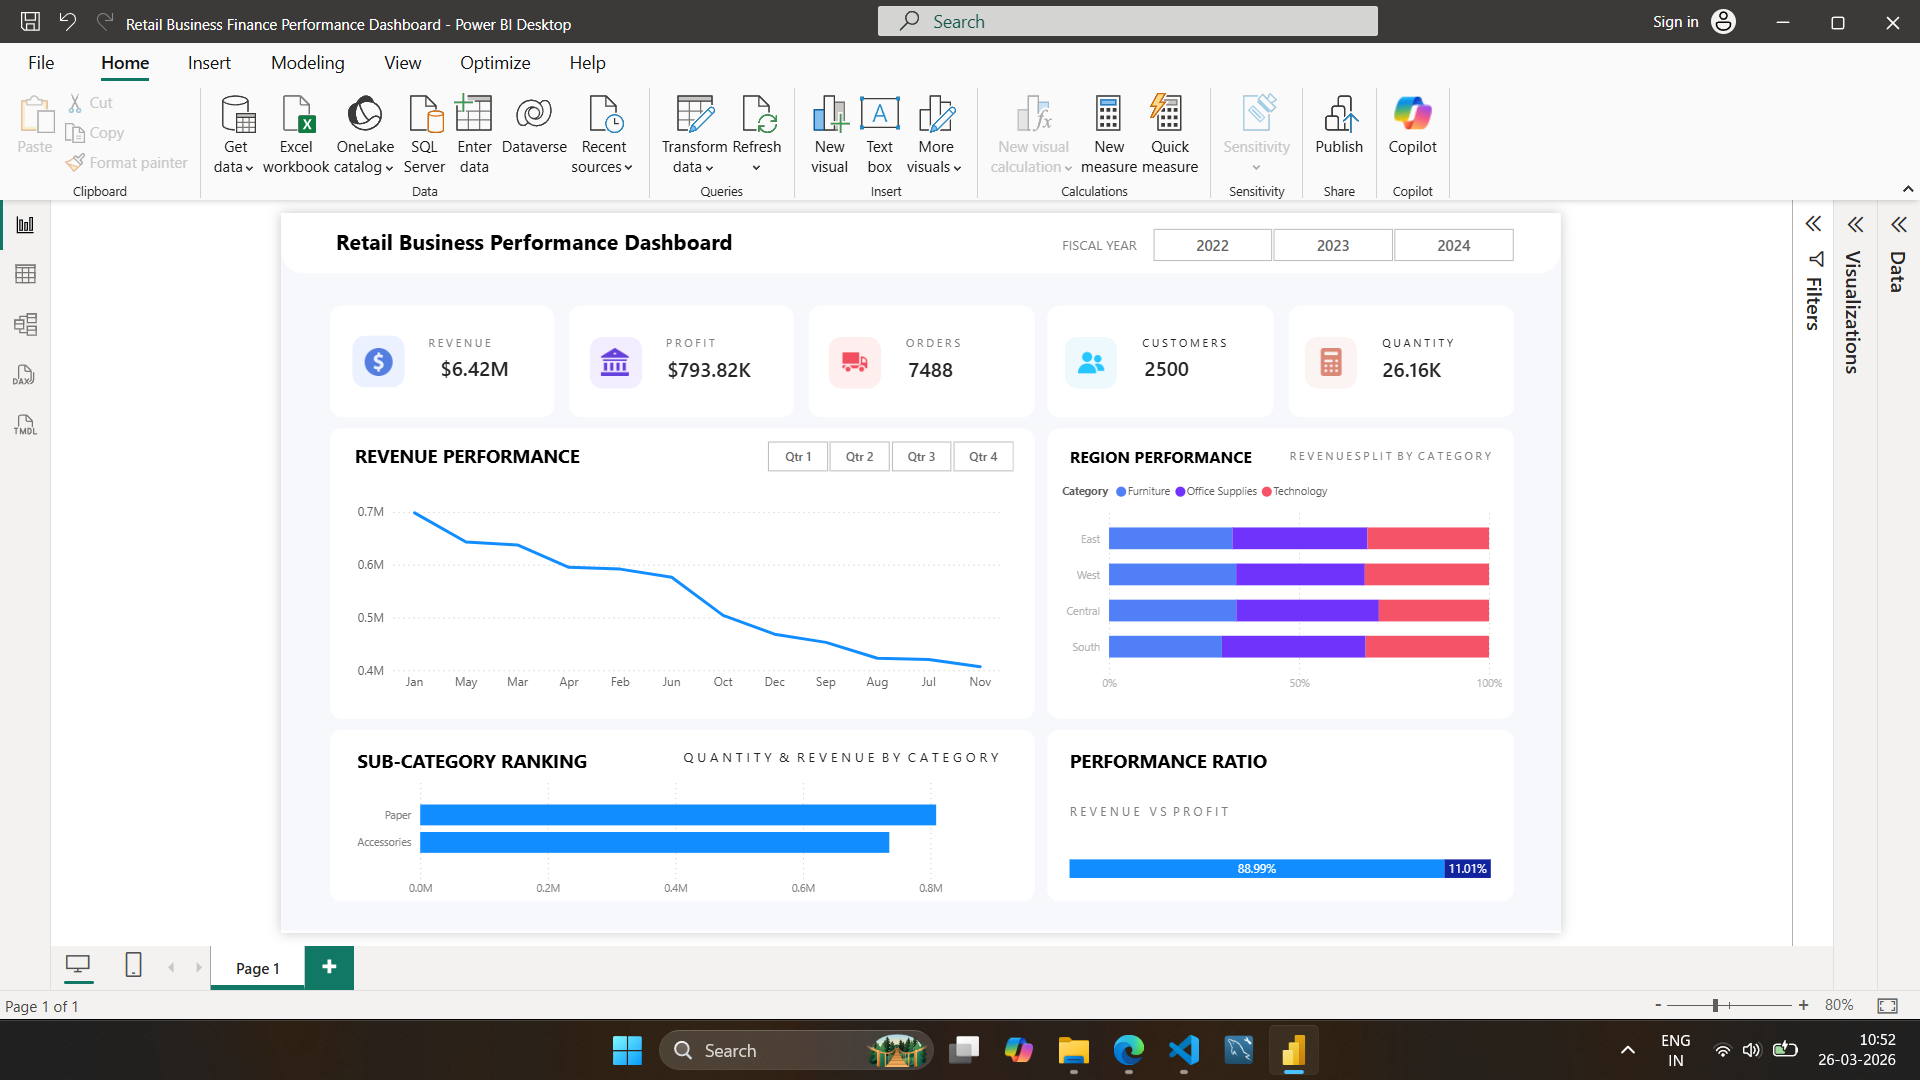

Layout of this report page (visuals, bound fields, positions):
{"tool":"powerbi","page":{"name":"Page 1","canvas":[1280,720],"ordinal":0},"visuals":[{"type":"textbox","box":[50,8.6,410,46.4],"z":0},{"type":"slicer","fields":{"Values":["retail_finance_performance_dataset.Order_Date.Variation.Date Hierarchy.Year"]},"box":[846.2,8.8,410,46.2],"z":1000},{"type":"textbox","box":[775.9,17.1,90,29.4],"z":2000},{"type":"shape","box":[71.2,122.9,52.5,52],"z":3000},{"type":"image","box":[81.2,134.7,32.9,28.2],"z":4000},{"type":"shape","box":[308.3,123.5,52.5,52],"z":5000},{"type":"image","box":[317.6,135.2,32.9,28.1],"z":6000},{"type":"shape","box":[547.6,123.4,52.5,52],"z":7000},{"type":"image","box":[557.1,134.8,32.9,28.1],"z":8000},{"type":"shape","box":[783.9,124.1,52.5,52],"z":9000},{"type":"image","box":[793.8,134.8,32.9,28.1],"z":10000},{"type":"shape","box":[1024.3,123.3,52.5,52],"z":11000},{"type":"image","box":[1033.8,135.2,32.9,28.1],"z":12000},{"type":"textbox","box":[143,115,80,27.5],"z":13000},{"type":"textbox","box":[380,115,71.2,27.5],"z":14000},{"type":"textbox","box":[620,115,71.2,27.5],"z":15000},{"type":"textbox","box":[856,115,117.5,27.5],"z":16000},{"type":"textbox","box":[1096,115,118.1,27.5],"z":17000},{"type":"card","fields":{"Values":["retail_finance_performance_dataset.TotalRevenue"]},"box":[142.9,140.6,102.4,34.1],"z":18000},{"type":"card","fields":{"Values":["retail_finance_performance_dataset.TotalProfit"]},"box":[380,141.8,95.9,32.9],"z":19000},{"type":"card","fields":{"Values":["retail_finance_performance_dataset.TotalOrders"]},"box":[620,141.2,60,34.1],"z":20000},{"type":"card","fields":{"Values":["retail_finance_performance_dataset.TotalCustomers"]},"box":[855.9,140.6,59.4,34.1],"z":21000},{"type":"card","fields":{"Values":["retail_finance_performance_dataset.TotalQuantity"]},"box":[1095.9,141.2,69.4,34.1],"z":22000},{"type":"textbox","box":[68.9,225.6,238.9,35.6],"z":23000},{"type":"slicer","fields":{"Values":["retail_finance_performance_dataset.Order_Date.Variation.Date Hierarchy.Quarter"]},"box":[466.2,226.2,285,33.8],"z":24000},{"type":"lineChart","fields":{"Y":["Sum(retail_finance_performance_dataset.Revenue)"],"Category":["retail_finance_performance_dataset.Month"]},"box":[71.2,285,653.8,202.5],"z":25000},{"type":"textbox","box":[783.8,226.9,200,33.8],"z":26000},{"type":"textbox","box":[1003.7,227.4,218.4,28.9],"z":27000},{"type":"hundredPercentStackedBarChart","fields":{"Category":["retail_finance_performance_dataset.Region"],"Y":["CountNonNull(retail_finance_performance_dataset.Category)"],"Series":["retail_finance_performance_dataset.Category"]},"box":[776.3,260.5,450,227.4],"z":28000},{"type":"textbox","box":[71,530,247,35],"z":29000},{"type":"textbox","box":[398,530,327,29],"z":30000},{"type":"clusteredBarChart","fields":{"Category":["retail_finance_performance_dataset.Sub_Category"],"Y":["Sum(retail_finance_performance_dataset.Revenue)"]},"box":[71,559,654,129],"z":31000},{"type":"textbox","box":[783.6,530,217.3,35.5],"z":32000},{"type":"hundredPercentStackedBarChart","fields":{"Y":["Sum(retail_finance_performance_dataset.Revenue)","Sum(retail_finance_performance_dataset.Profit)"]},"box":[783.8,615,431.2,73.8],"z":33000},{"type":"textbox","box":[783.9,583.9,179.3,31],"z":34000}]}

Visuals, with their boxes on the page's 1280x720 design canvas (x1, y1, x2, y2). These are canvas units, not pixel positions in the 1920x1080 screenshot, which may show the page scaled, cropped or inside an application window:
textbox: region(50, 9, 460, 55)
slicer - retail_finance_performance_dataset.Order_Date.Variation.Date Hierarchy.Year: region(846, 9, 1256, 55)
textbox: region(776, 17, 866, 46)
shape: region(71, 123, 124, 175)
image: region(81, 135, 114, 163)
shape: region(308, 124, 361, 176)
image: region(318, 135, 350, 163)
shape: region(548, 123, 600, 175)
image: region(557, 135, 590, 163)
shape: region(784, 124, 836, 176)
image: region(794, 135, 827, 163)
shape: region(1024, 123, 1077, 175)
image: region(1034, 135, 1067, 163)
textbox: region(143, 115, 223, 142)
textbox: region(380, 115, 451, 142)
textbox: region(620, 115, 691, 142)
textbox: region(856, 115, 974, 142)
textbox: region(1096, 115, 1214, 142)
card - retail_finance_performance_dataset.TotalRevenue: region(143, 141, 245, 175)
card - retail_finance_performance_dataset.TotalProfit: region(380, 142, 476, 175)
card - retail_finance_performance_dataset.TotalOrders: region(620, 141, 680, 175)
card - retail_finance_performance_dataset.TotalCustomers: region(856, 141, 915, 175)
card - retail_finance_performance_dataset.TotalQuantity: region(1096, 141, 1165, 175)
textbox: region(69, 226, 308, 261)
slicer - retail_finance_performance_dataset.Order_Date.Variation.Date Hierarchy.Quarter: region(466, 226, 751, 260)
lineChart - Sum(retail_finance_performance_dataset.Revenue) x retail_finance_performance_dataset.Month: region(71, 285, 725, 488)
textbox: region(784, 227, 984, 261)
textbox: region(1004, 227, 1222, 256)
hundredPercentStackedBarChart - retail_finance_performance_dataset.Region x CountNonNull(retail_finance_performance_dataset.Category): region(776, 260, 1226, 488)
textbox: region(71, 530, 318, 565)
textbox: region(398, 530, 725, 559)
clusteredBarChart - retail_finance_performance_dataset.Sub_Category x Sum(retail_finance_performance_dataset.Revenue): region(71, 559, 725, 688)
textbox: region(784, 530, 1001, 566)
hundredPercentStackedBarChart - Sum(retail_finance_performance_dataset.Revenue) x Sum(retail_finance_performance_dataset.Profit): region(784, 615, 1215, 689)
textbox: region(784, 584, 963, 615)
